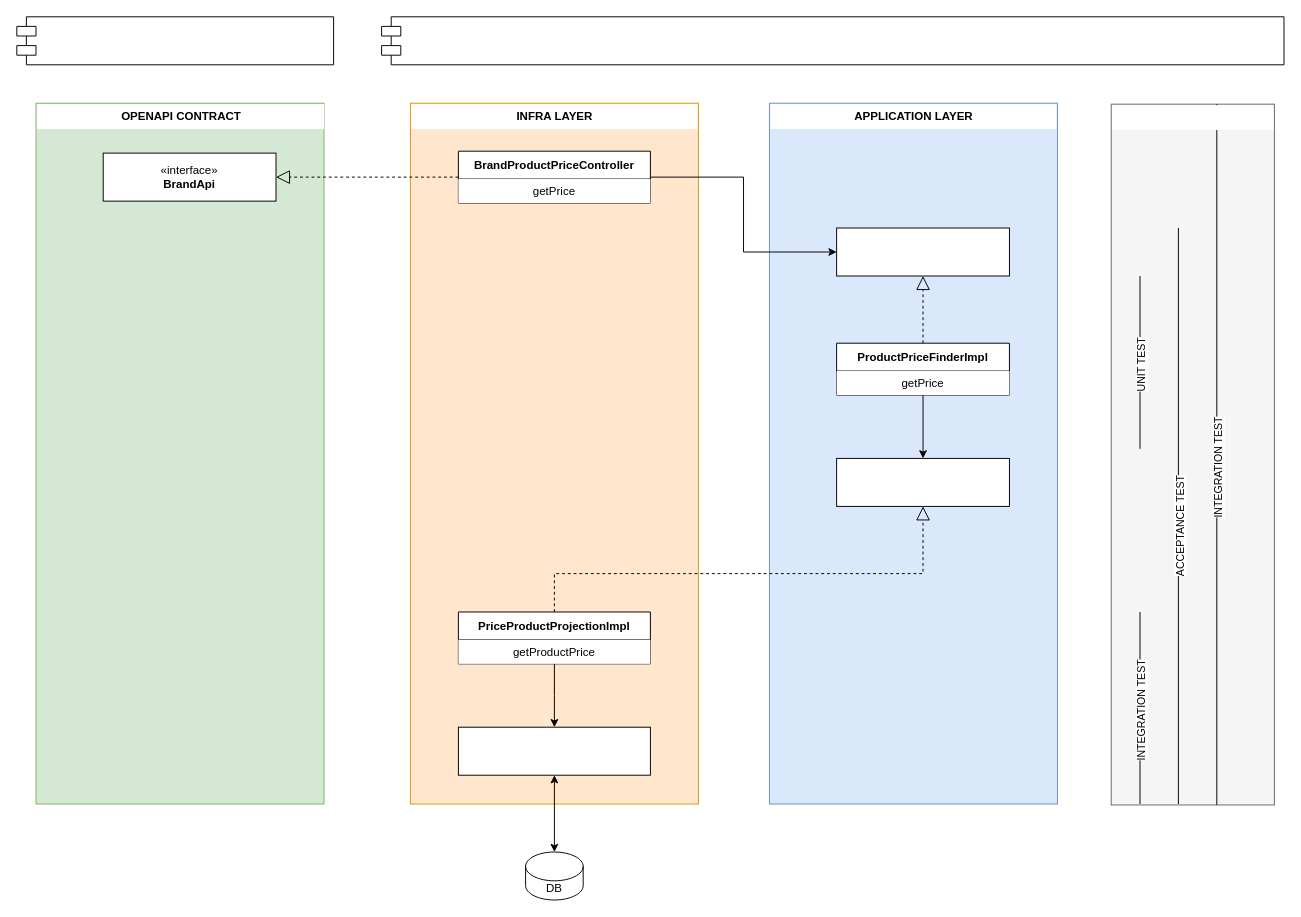
The diagram is 1301 pixels wide and 917 high, and some of its shapes have lost their labels. Here are the shapes that lost their labels. From the top down, the centre of each, then its label:
At [175,40]: "product-store-api".
At [832,40]: "product-store-app".
At [1192,117]: "TESTING STRATEGY".
At [922,251]: "«interface» ProductPriceFinder".
At [922,481]: "«interface» ProductPrice Projection".
At [553,750]: "«interface» PriceProductDAO".
